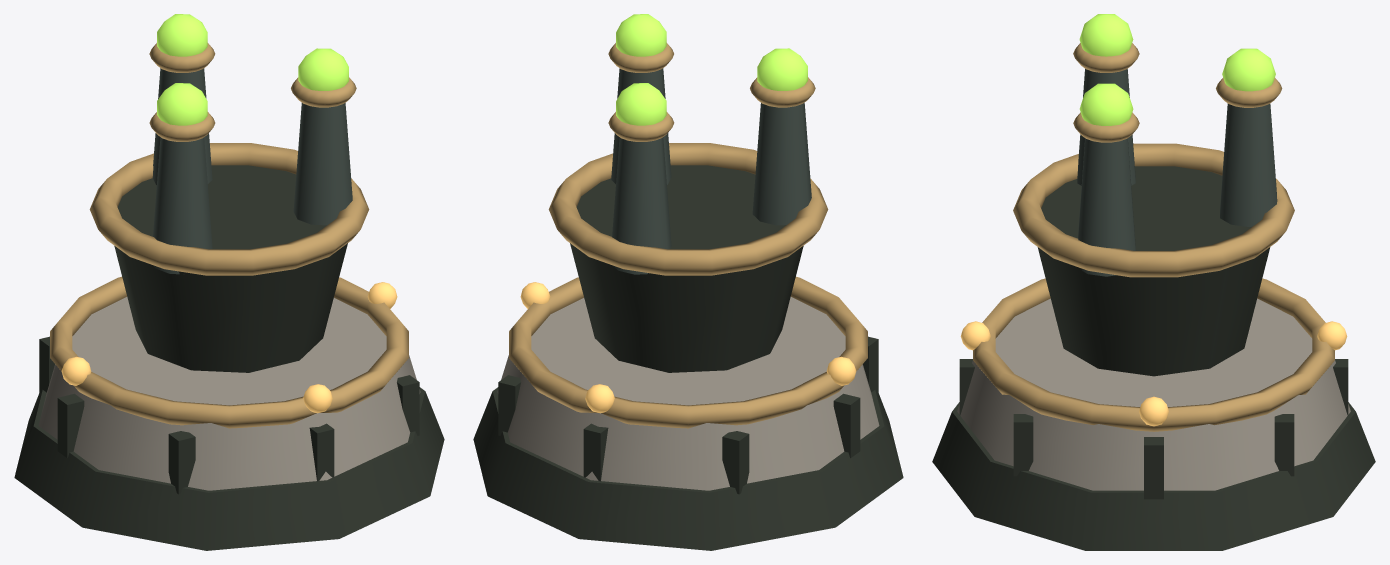
The model's file is tower_poison_poisonCauldron.glb.
3 views of the same model, side by side, from view 1: azimuth 30°, elevation 25°; view 2: azimuth 150°, elevation 25°; view 3: azimuth 270°, elevation 25° (orthographic).
Visible parts, largest first — view 1: stone_1, vessel_15, foot_0, rim_2, vessel_lip_17, chimney_21, chimney_24, spore_26, spore_20, spore_23, mortar_6, mortar_7 (+10 smaller); view 2: stone_1, vessel_15, foot_0, rim_2, vessel_lip_17, chimney_24, chimney_18, spore_20, spore_26, spore_23, mortar_8, mortar_7 (+10 smaller); view 3: stone_1, vessel_15, foot_0, rim_2, vessel_lip_17, chimney_18, chimney_21, spore_20, spore_23, spore_26, chimney_24, mortar_3 (+10 smaller).
Boxes of the visible parts, x1,y1,x2,y2 form: stone_1: (38,297,420,490); vessel_15: (114,165,347,372); foot_0: (14,387,444,550); rim_2: (50,276,408,428); vessel_lip_17: (89,143,369,275); chimney_21: (293,103,352,225); chimney_24: (153,137,212,274); spore_26: (157,83,207,125); spore_20: (157,14,207,56); spore_23: (298,48,348,90); mortar_6: (168,431,195,494); mortar_7: (57,393,84,458); stone_1: (497,297,879,490); vessel_15: (570,165,803,372); foot_0: (473,387,903,550); rim_2: (509,276,867,428); vessel_lip_17: (548,143,828,275); chimney_24: (752,103,811,225); chimney_18: (612,137,671,274); spore_20: (616,83,666,125); spore_26: (757,48,807,90); spore_23: (616,14,666,56); mortar_8: (722,431,749,494); mortar_7: (833,393,860,458); stone_1: (957,298,1350,490); vessel_15: (1037,166,1270,376); foot_0: (932,402,1375,550); rim_2: (973,278,1334,431); vessel_lip_17: (1013,143,1294,277); chimney_18: (1220,103,1277,226); chimney_21: (1078,138,1135,276); spore_20: (1222,48,1275,91); spore_23: (1079,83,1133,125); spore_26: (1079,14,1133,56); chimney_24: (1077,69,1135,185); mortar_3: (1144,437,1163,499).
Size of the model in its own units: 0.5326 by 0.574 by 0.56.
